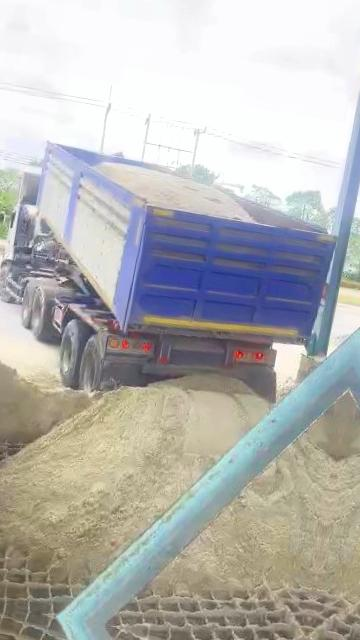sand: (0, 376, 267, 580), (158, 437, 337, 591), (95, 162, 254, 222), (0, 342, 91, 441), (308, 391, 349, 461)
